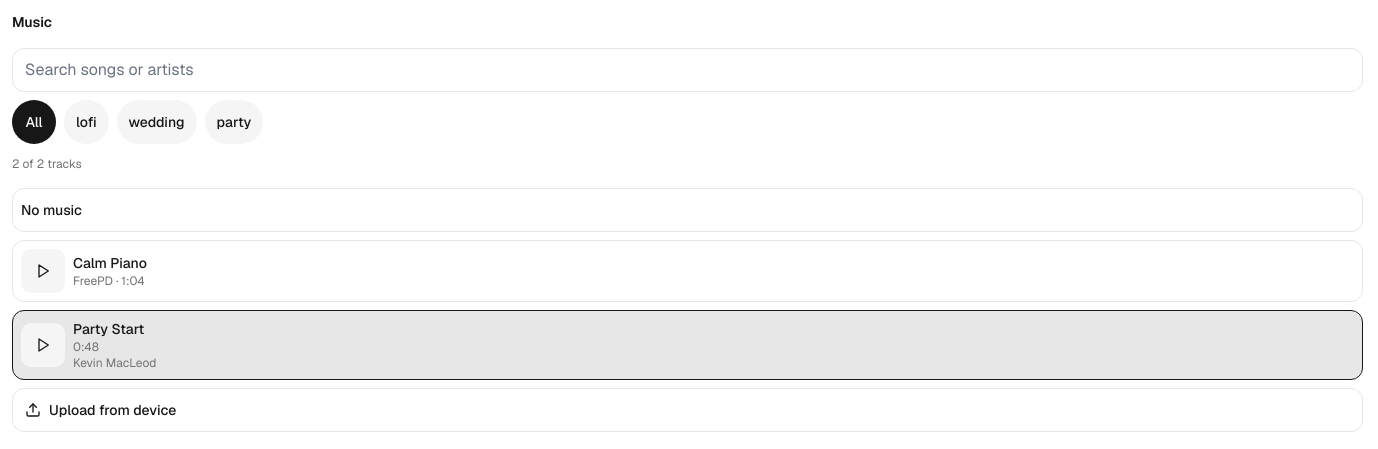
Test: MusicPicker › clears filters from the empty state and preserves out-of-view selection
Check: the button "Party Start 0:48 Kevin MacLeod" is shown, box [73,319,1354,371]
Step 1. Type "calm" into the search field labelled "Search songs or artists" → point(688, 70), box [12,48,1363,92]
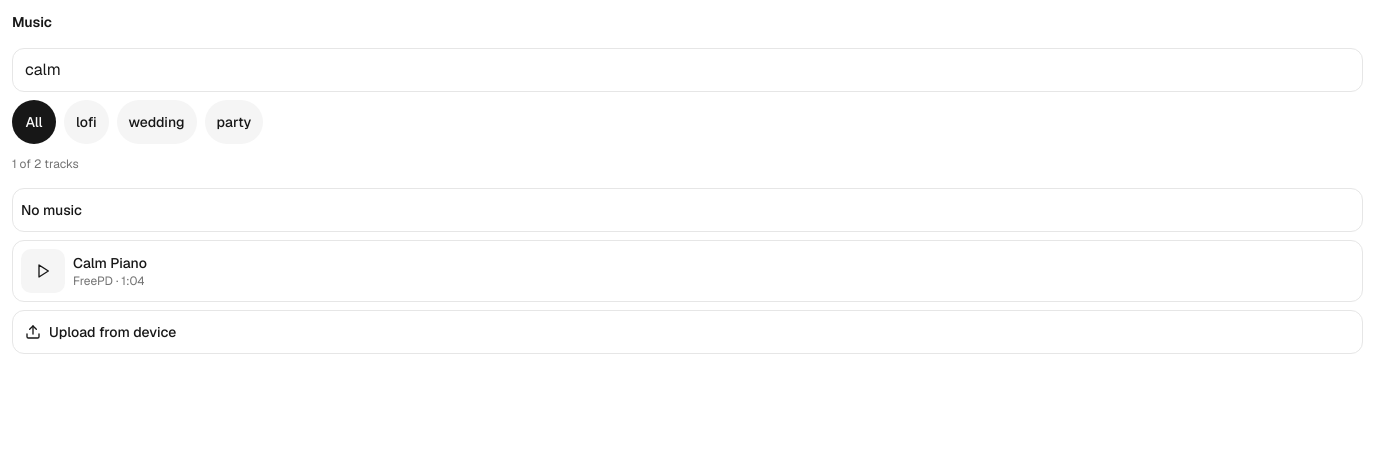
Check: the button "Party Start" is gone
Step 2. Clear the search field named "Search songs or artists" → point(688, 70), box [12,48,1363,92]
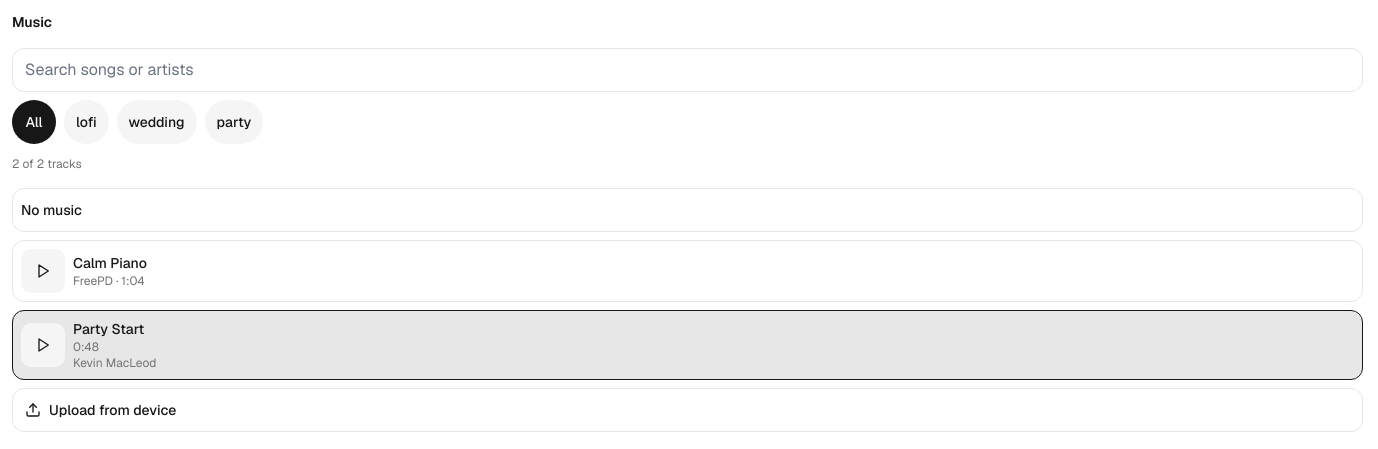
Check: the button "Party Start 0:48 Kevin MacLeod" is shown, box [73,319,1354,371]
Step 3. Type "zzz" into the search field labelled "Search songs or artists" → point(688, 70), box [12,48,1363,92]
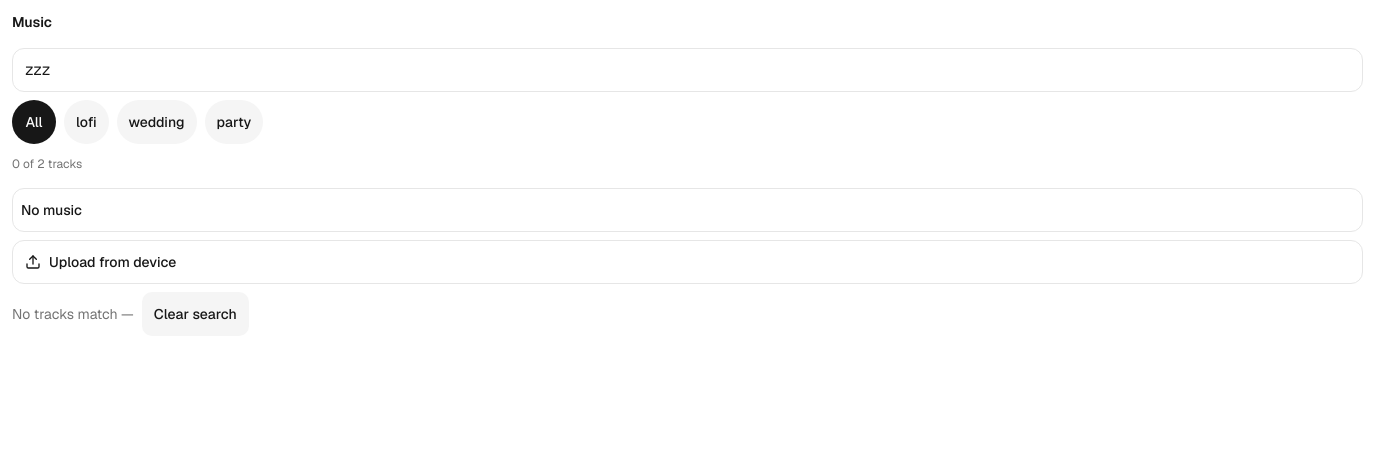
Step 4. Click the button "Clear search" → point(195, 314), box [142,292,249,336]
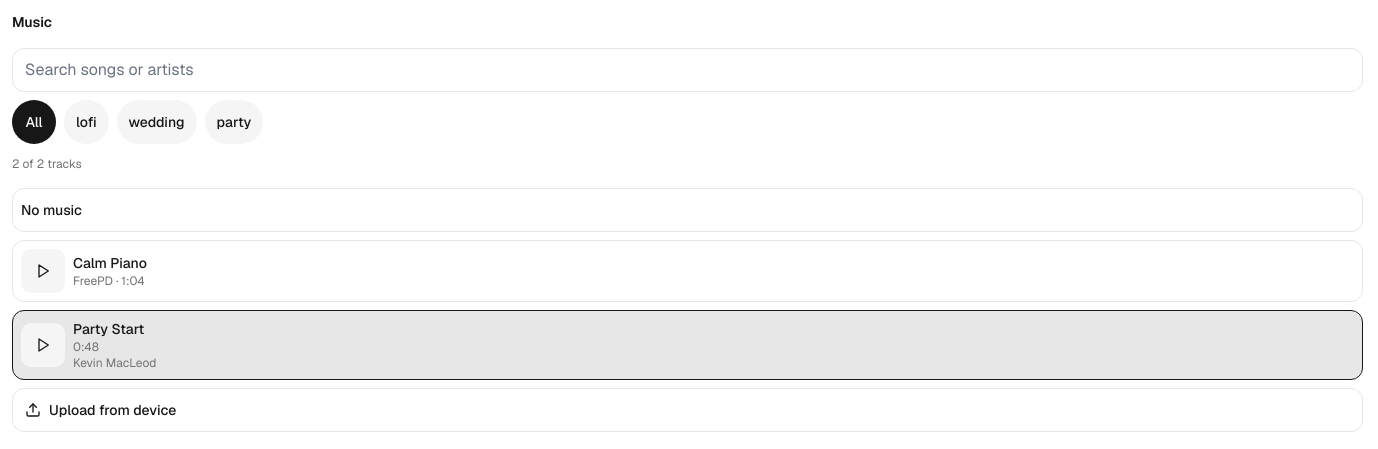
Check: the text "Party Start" is shown, box [73,320,144,338]
Check: the text "Calm Piano" is shown, box [73,254,147,272]
